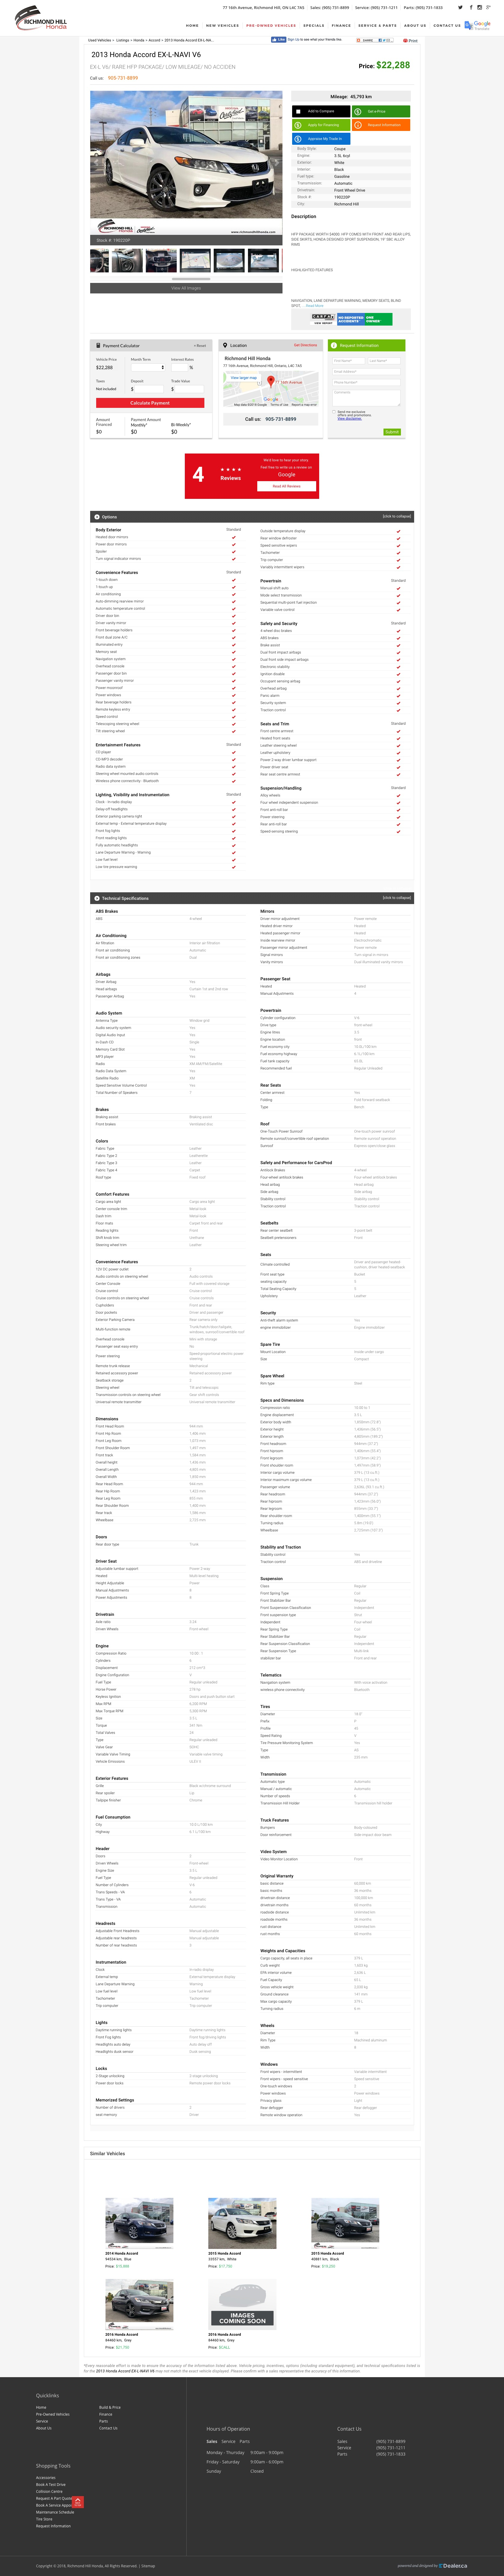car: (274, 159, 281, 166)
